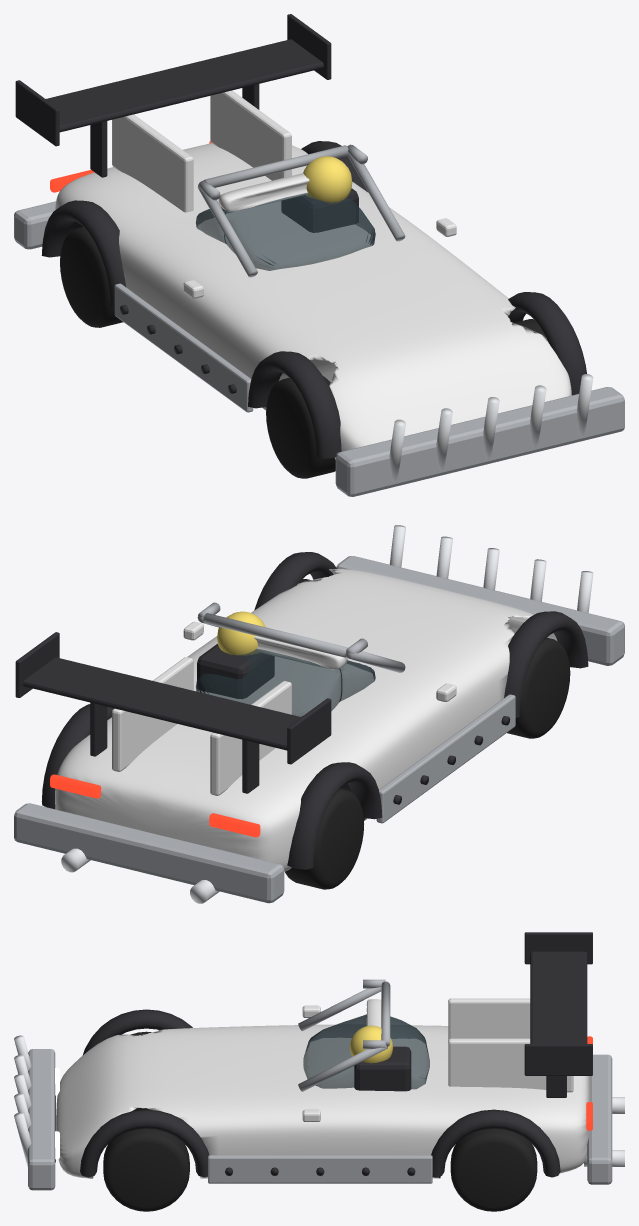
Rendered from proto.glb.
The picture shows the model from 3 angles, top to bottom: view 1: azimuth 30°, elevation 25°; view 2: azimuth 150°, elevation 25°; view 3: azimuth 270°, elevation 25°; orthographic projection. The views are drawn at different scales.
Parts seen in each view (by area): view 1: Paint_Body, Dark_Parts, Steel_Parts, Glass, Wheel_FR, Wheel_RR, Helmet; view 2: Paint_Body, Dark_Parts, Steel_Parts, Glass, Wheel_RR, Wheel_FR, TailLights, Helmet; view 3: Paint_Body, Dark_Parts, Steel_Parts, Wheel_RL, Wheel_FL, Glass, Helmet.
Boxes of the visible parts, <box> form: Paint_Body: <box>55,90,571,459</box>; Dark_Parts: <box>15,14,586,458</box>; Steel_Parts: <box>14,144,624,496</box>; Glass: <box>196,193,375,270</box>; Wheel_FR: <box>266,376,335,478</box>; Wheel_RR: <box>60,227,123,327</box>; Helmet: <box>303,156,352,203</box>; Paint_Body: <box>55,569,557,871</box>; Dark_Parts: <box>15,552,588,903</box>; Steel_Parts: <box>14,525,624,903</box>; Glass: <box>196,648,375,716</box>; Wheel_RR: <box>285,788,363,889</box>; Wheel_FR: <box>507,637,570,738</box>; TailLights: <box>50,774,260,837</box>; Helmet: <box>217,611,265,655</box>; Paint_Body: <box>56,998,590,1178</box>; Dark_Parts: <box>55,932,624,1177</box>; Steel_Parts: <box>14,979,612,1190</box>; Wheel_RL: <box>450,1128,537,1211</box>; Wheel_FL: <box>103,1128,189,1211</box>; Glass: <box>303,1014,429,1089</box>; Helmet: <box>350,1025,392,1063</box>.
Bounding box in the file's own units: 2.37 × 1.67 × 5.36.
